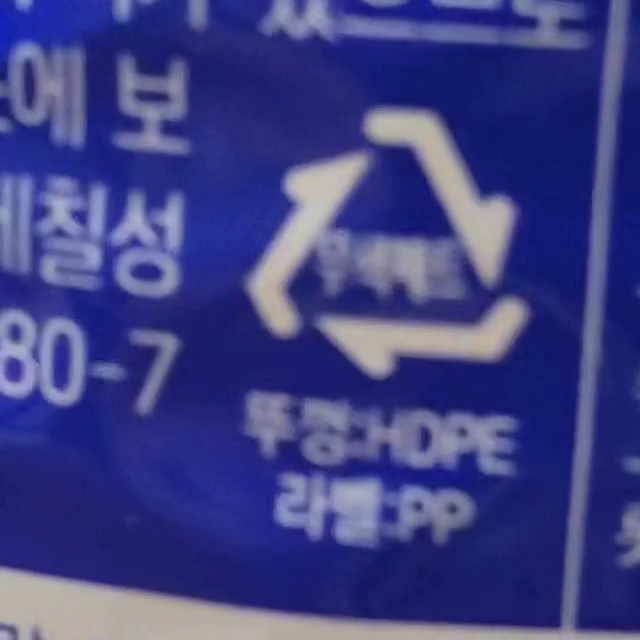ColorlessPet: (247, 110, 525, 378)
